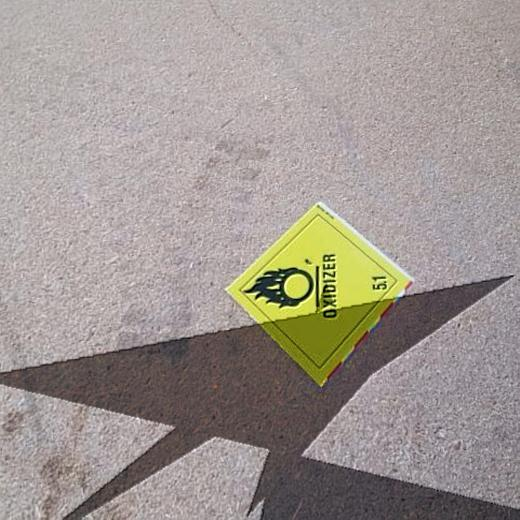oxidizer: (220, 200, 421, 394)
